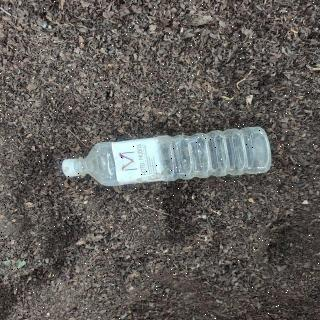Plastic-bottle: (57, 124, 277, 190)
